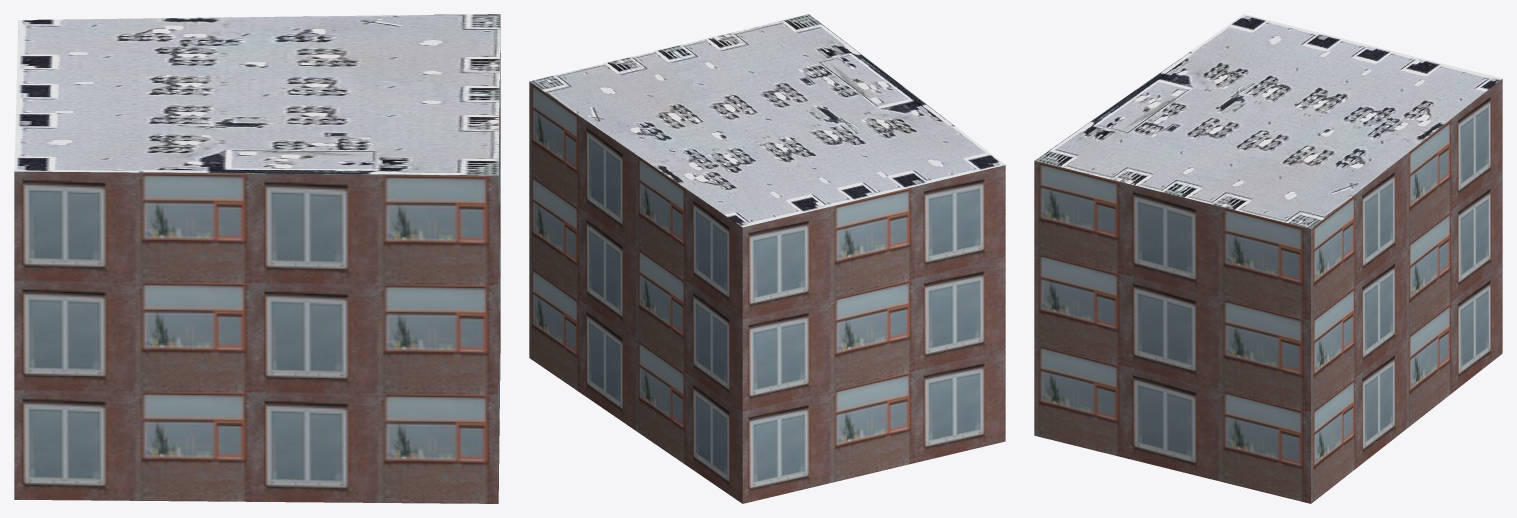
Rendered from ResTex__413.fbx.
The picture shows the model from 3 angles, left to right: view 1: azimuth 30°, elevation 25°; view 2: azimuth 150°, elevation 25°; view 3: azimuth 270°, elevation 25°; orthographic projection. The views are drawn at different scales.
Visible parts, largest first — view 1: CityEngineMaterial_19_m, CityEngineMaterial_15_m; view 2: CityEngineMaterial_19_m, CityEngineMaterial_15_m; view 3: CityEngineMaterial_19_m, CityEngineMaterial_15_m.
Part boxes in pixels (x1,y1,x2,y2): CityEngineMaterial_19_m: (14,25,500,503); CityEngineMaterial_15_m: (14,14,500,175); CityEngineMaterial_19_m: (529,82,1005,503); CityEngineMaterial_15_m: (529,14,1005,227); CityEngineMaterial_19_m: (1034,79,1502,503); CityEngineMaterial_15_m: (1035,14,1501,228).
Bounding box in the file's own units: 15.09 × 9 × 13.89.
2 materials, 2 textured.
